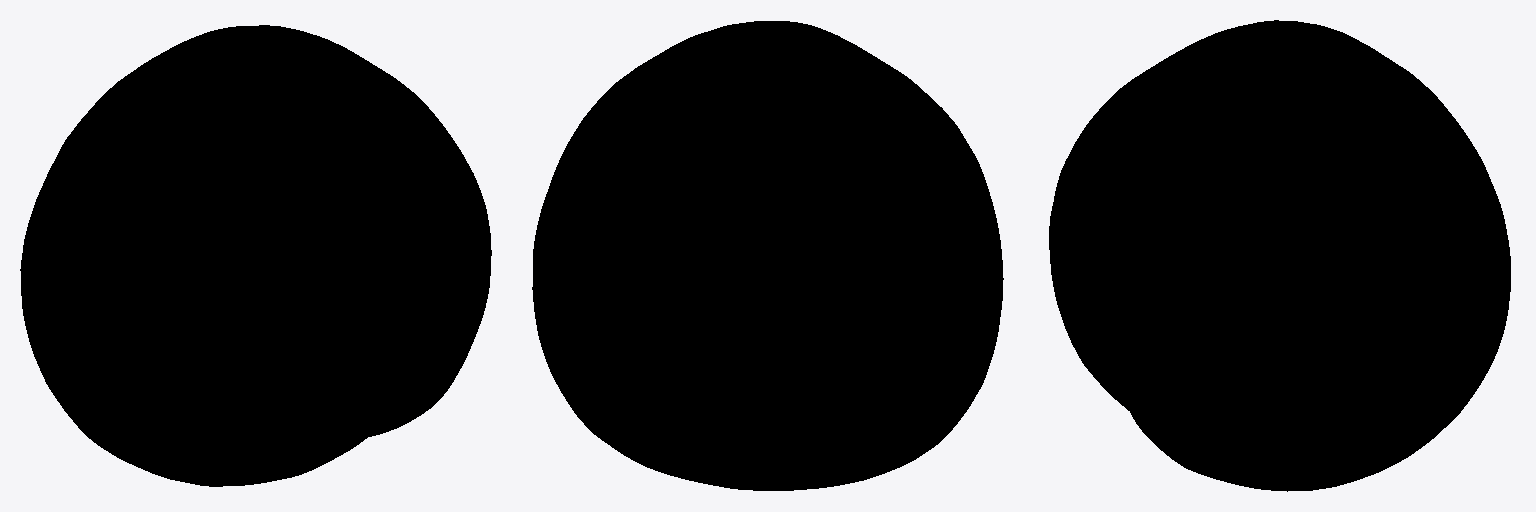
URDF robot description (graspnet-017):

<robot name="graspnet-017">
  <link name="link_graspnet-017">
    <inertial>
      <origin xyz="0 0 0" rpy="0 0 0"/>
    </inertial>
    <visual>
      <origin xyz="0 0 0" rpy="0 0 0"/>
      <geometry>
        <mesh filename="decomposed.obj"/>
      </geometry>
      <material name="">
        <color rgba="0 0 0 1"/>
      </material>
    </visual>
    <collision>
      <origin xyz="0 0 0" rpy="0 0 0"/>
      <geometry>
        <mesh filename="decomposed.obj"/>
      </geometry>
    </collision>
  </link>
</robot>

--- What the picture shows (computed from the rendered views, not written in the file) ---
3 views of the same robot in one strip: view 1: azimuth 30°, elevation 25°; view 2: azimuth 150°, elevation 25°; view 3: azimuth 270°, elevation 25° (orthographic).
Model graspnet-017 with 1 links and 0 joints (none), rooted at link_graspnet-017, posed all joints at 0.
Links seen in each view (by area): view 1: link_graspnet-017; view 2: link_graspnet-017; view 3: link_graspnet-017.
Link boxes in pixels (x1=…): link_graspnet-017: x1=20, y1=25, x2=491, y2=486; link_graspnet-017: x1=532, y1=21, x2=1003, y2=490; link_graspnet-017: x1=1049, y1=20, x2=1510, y2=491.
Bounding box of the posed robot: 0.0578 × 0.0555 × 0.0536 m (x, y, z).
1 mesh visuals loaded from 1 distinct referenced files (1 OBJ).
